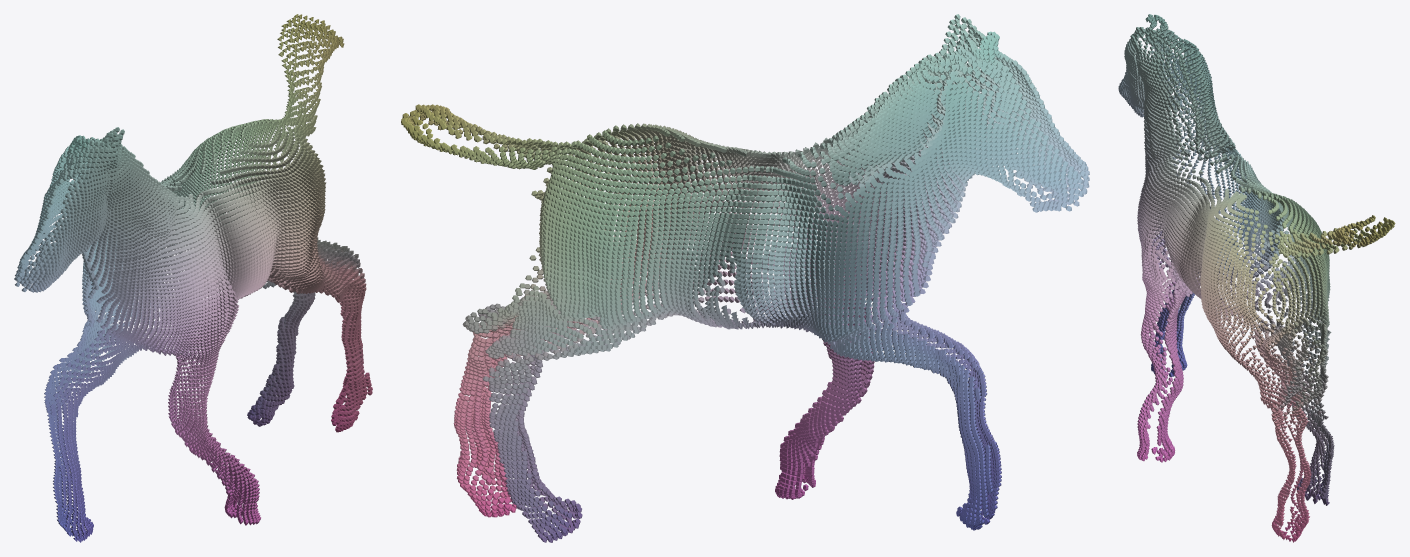
File: 2009_003572_1_pcan.glb
3 renders of one model, left to right at view 1: azimuth 30°, elevation 25°; view 2: azimuth 150°, elevation 25°; view 3: azimuth 270°, elevation 25°, orthographic. The views are drawn at different scales.
Parts seen in each view (by area): view 1: target; view 2: target; view 3: target.
Part boxes in pixels (left/top/right/bottom): target: left=14, top=14, right=372, bottom=542; target: left=401, top=14, right=1089, bottom=542; target: left=1118, top=14, right=1395, bottom=542.
Size of the model in its own units: 2.54 by 2.37 by 1.55.
